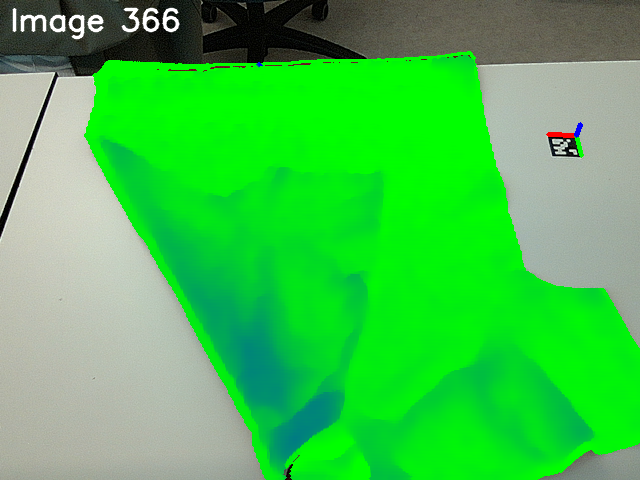V: (325, 158, 394, 212)
